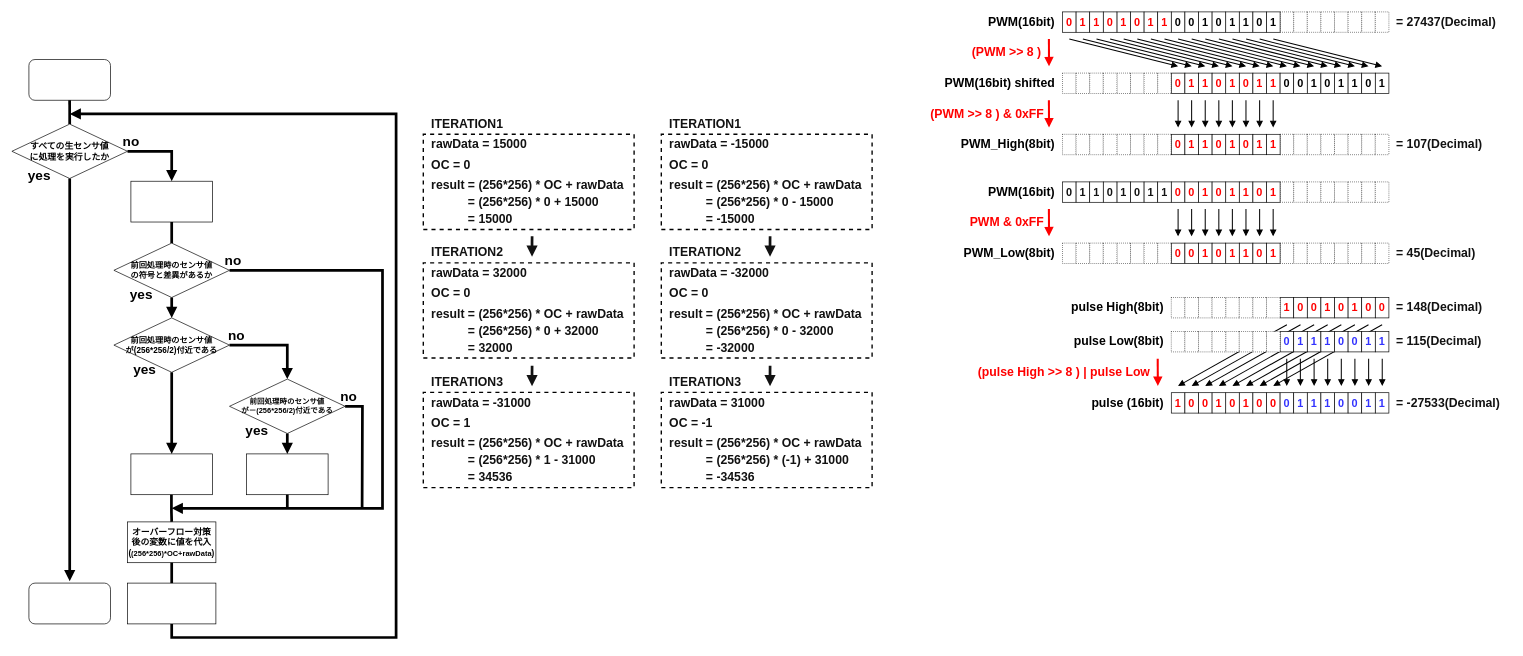
Some shapes in this 1523 by 656 pixel diagram are drawn without their labels. The shapes that lost their labels are listed below. From the top down, each one's centre as x and y in pixels, then its label:
At (x=69, y=79): "開始".
At (x=171, y=201): "センサ値(rawData)の符号を取得し保存".
At (x=171, y=474): "オーバーフロー カウント（OC）を インクリメント".
At (x=287, y=474): "オーバーフロー カウント （OC） を デクリメント".
At (x=69, y=603): "終了".
At (x=171, y=603): "次回処理用に 各種データを保存".
